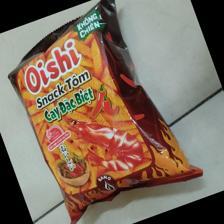Oishi_Cay: (6, 2, 207, 224)
